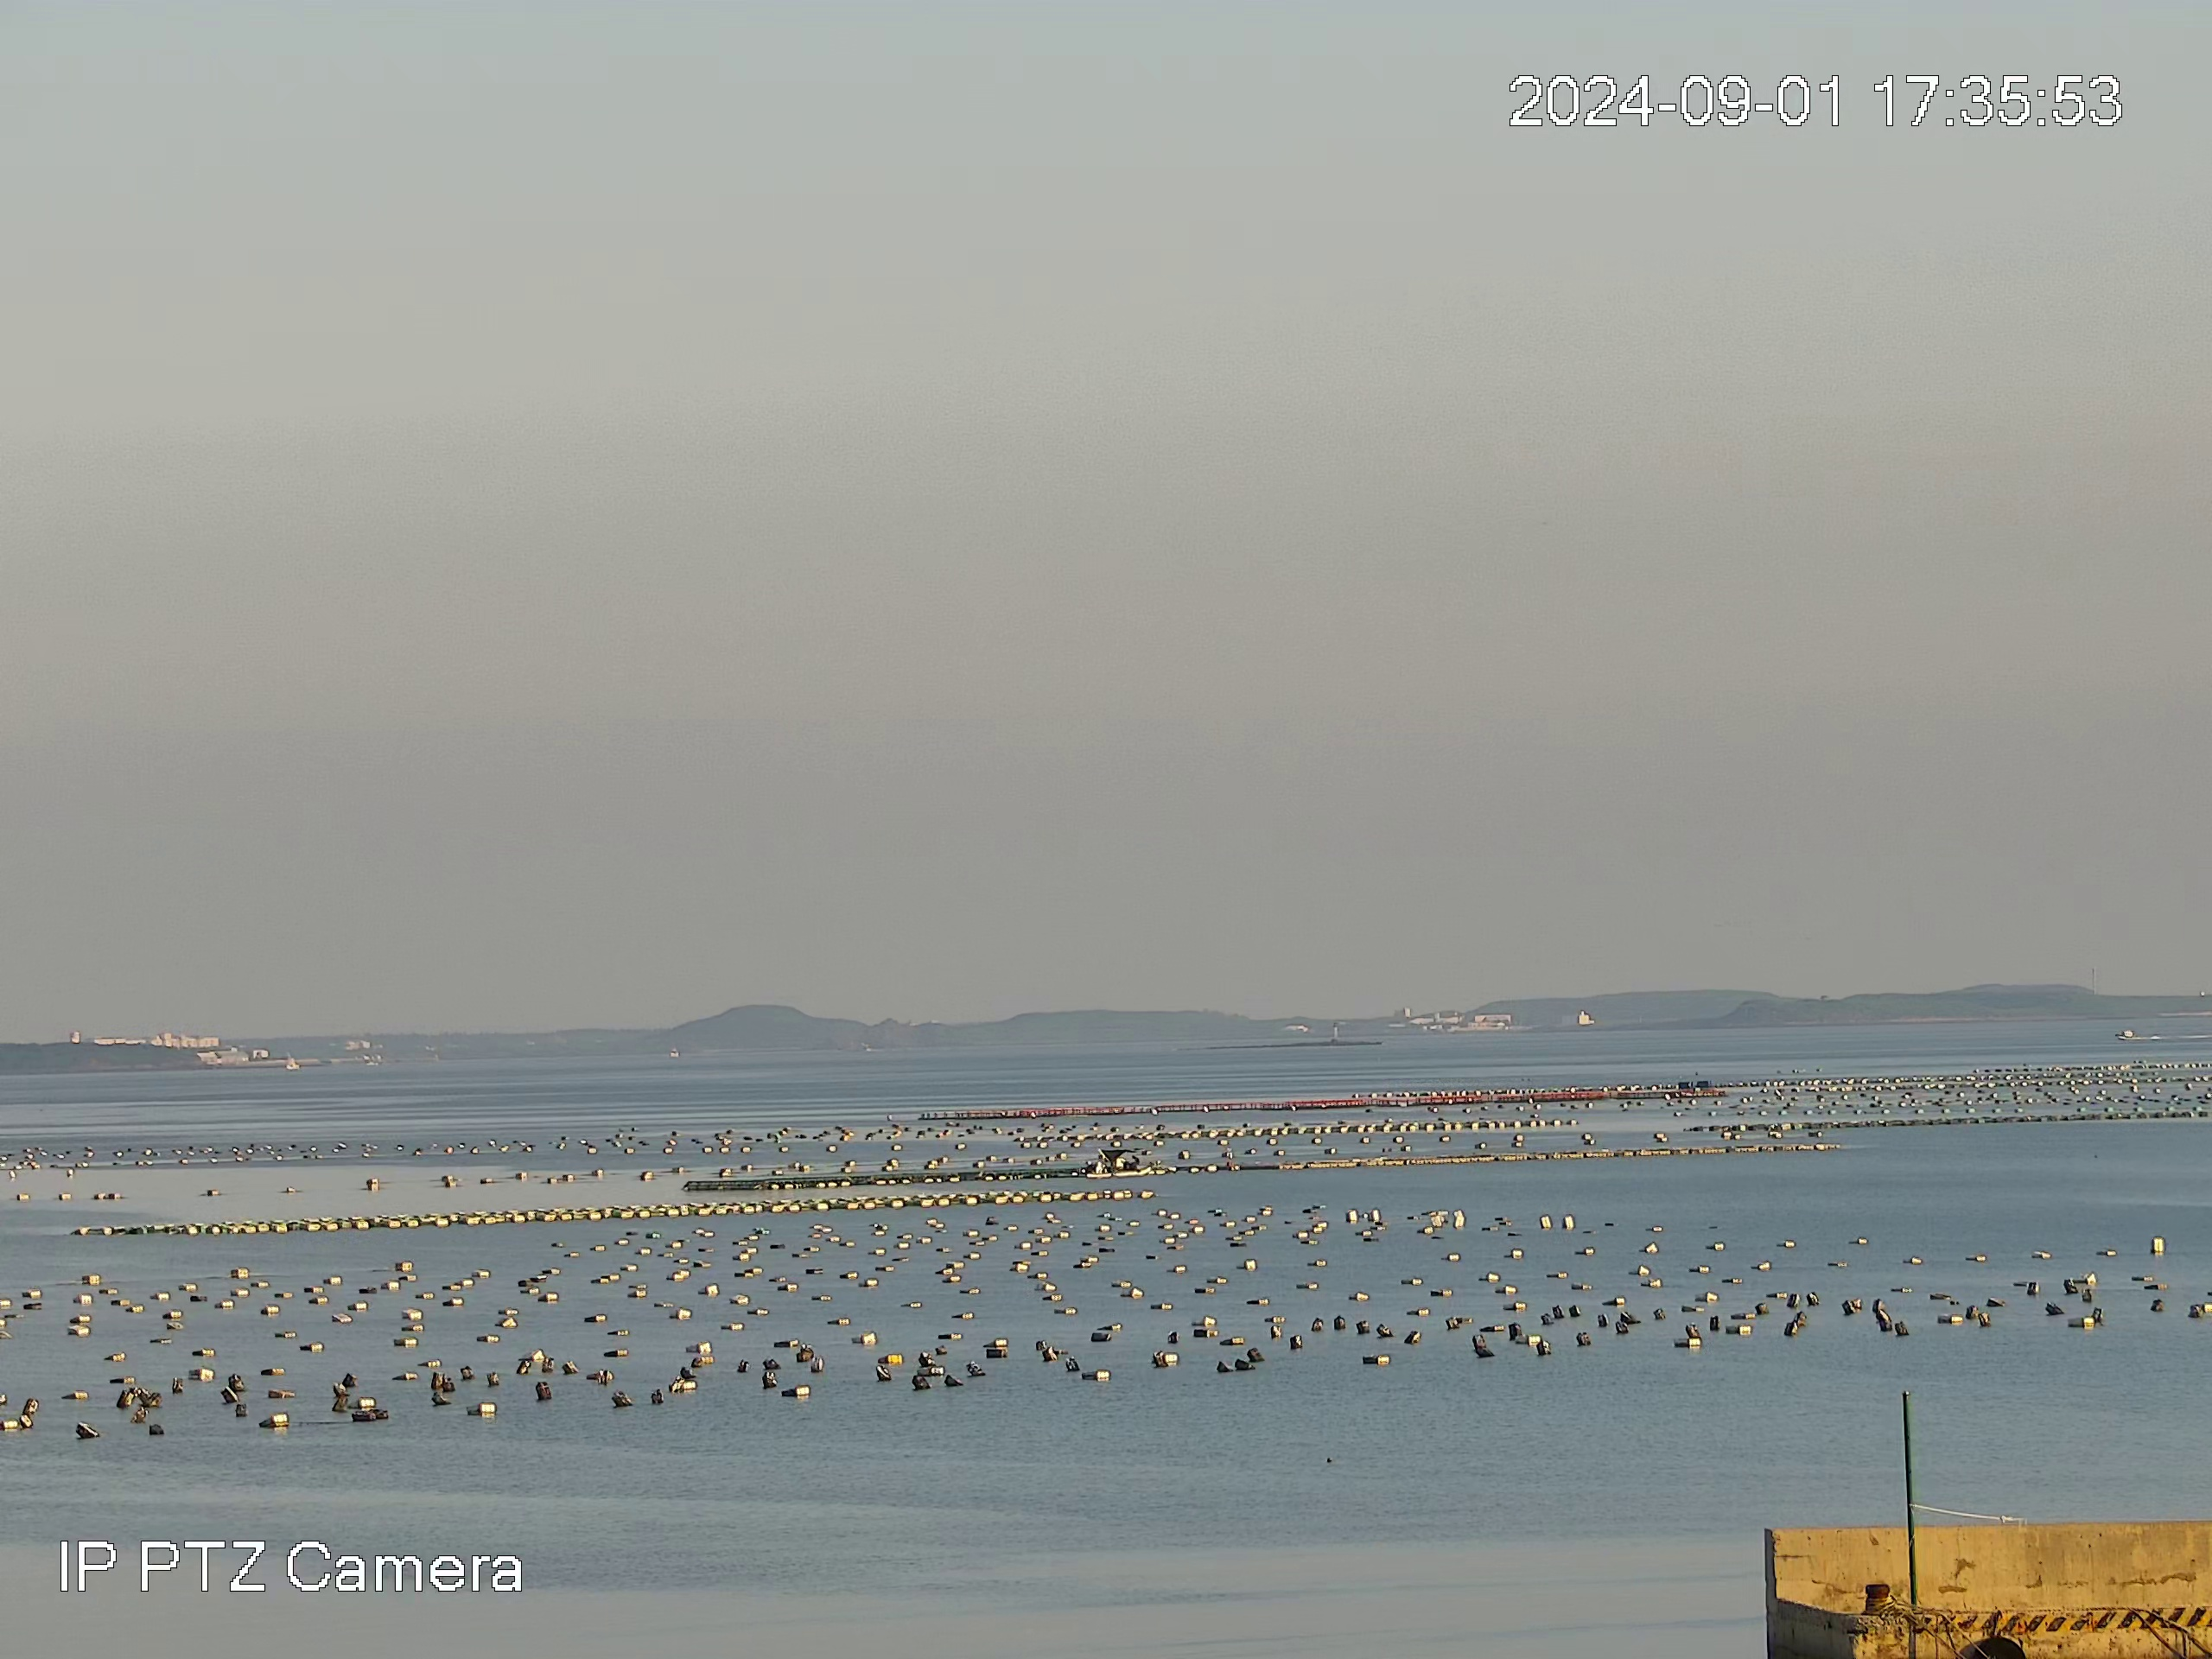boat: (1084, 1150, 1151, 1179)
